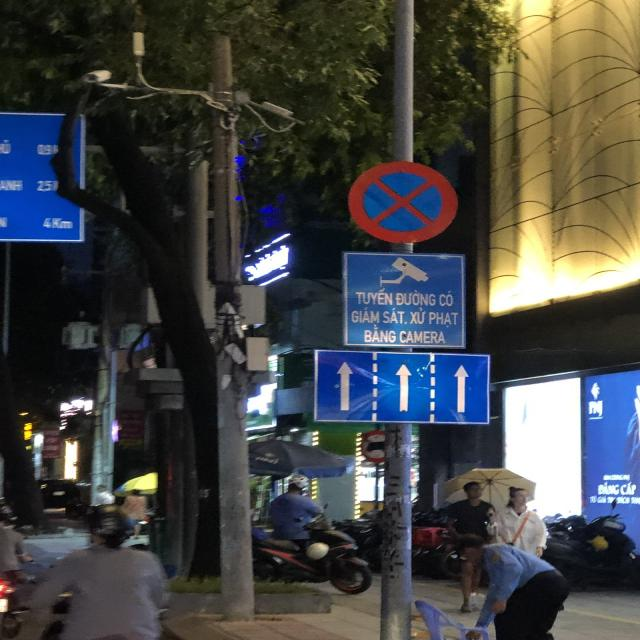Bien bao cam dung xe va do xe: (338, 152, 462, 242)
